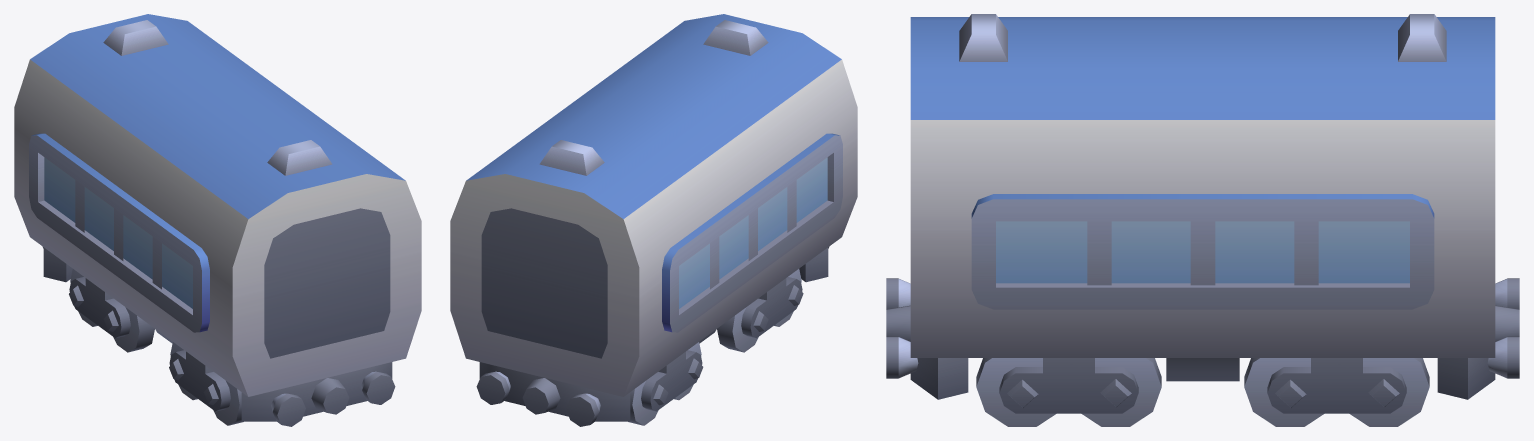
The model's file is kenney-train-train-electric-bullet-c.glb.
3 renders of one model, left to right at view 1: azimuth 30°, elevation 25°; view 2: azimuth 150°, elevation 25°; view 3: azimuth 270°, elevation 25°, orthographic. The views are drawn at different scales.
Visible parts, largest first — view 1: train-electric-bullet-c; view 2: train-electric-bullet-c; view 3: train-electric-bullet-c.
Boxes of the visible parts, <box> form: train-electric-bullet-c: <box>14,14,421,426</box>; train-electric-bullet-c: <box>450,14,857,426</box>; train-electric-bullet-c: <box>886,14,1519,426</box>.
Size of the model in its own units: 1.3 by 1.64 by 2.6.
Materials: 1 (1 with a texture image).
